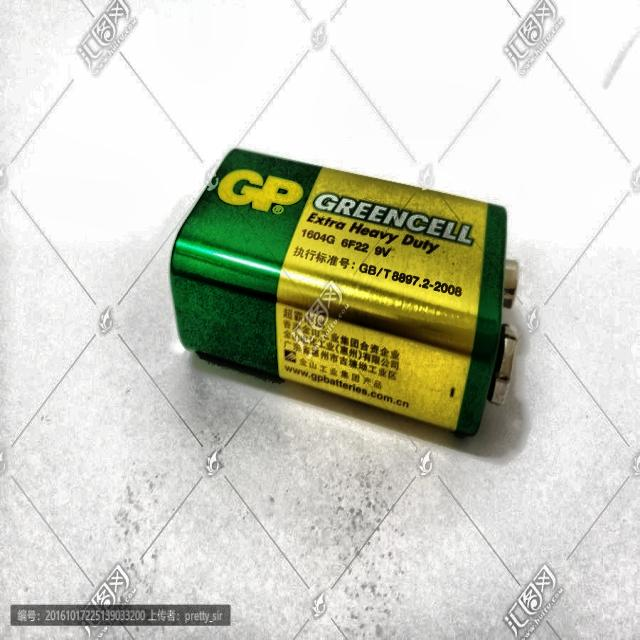Non-Valuable Waste - Batteries: (170, 148, 518, 434)
